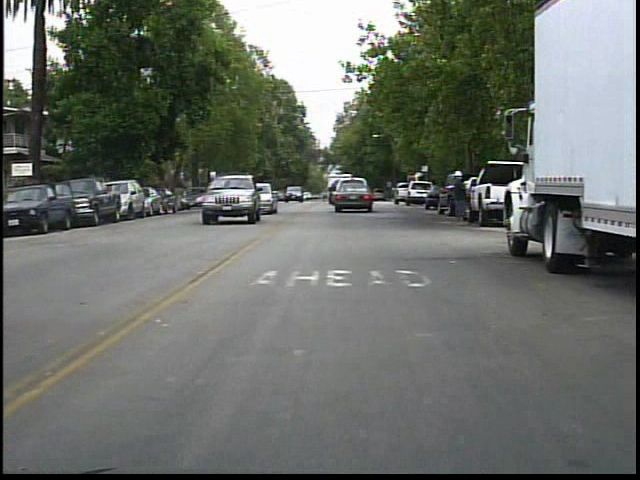person: (446, 167, 475, 227)
